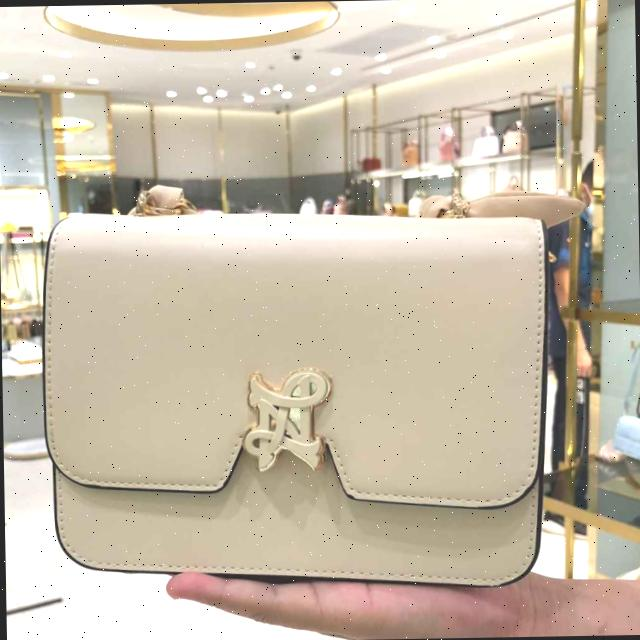handbag: (32, 195, 559, 589)
